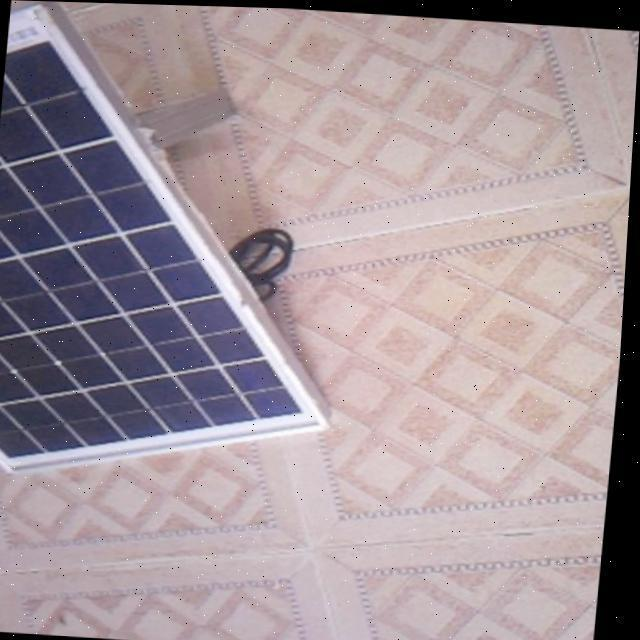Normal Solar Panel: (0, 0, 366, 488)
